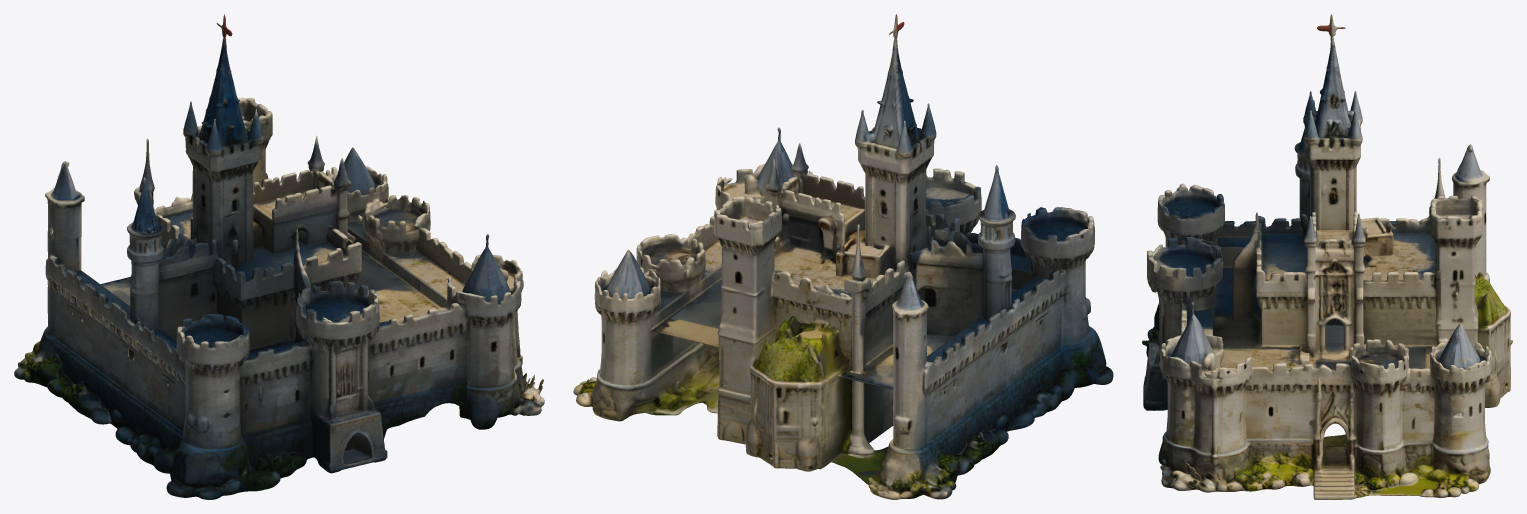
Rendered from tripo_convert_ca9592dc-a405-4ad4-b340-89718ce3b584.fbx.
3 renders of one model, left to right at view 1: azimuth 30°, elevation 25°; view 2: azimuth 150°, elevation 25°; view 3: azimuth 270°, elevation 25°, orthographic. The views are drawn at different scales.
Parts seen in each view (by area): view 1: tripo_node_ca9592dc; view 2: tripo_node_ca9592dc; view 3: tripo_node_ca9592dc.
Boxes of the visible parts, x1,y1,x2,y2 form: tripo_node_ca9592dc: (14,14,544,499); tripo_node_ca9592dc: (573,14,1113,499); tripo_node_ca9592dc: (1142,14,1512,499).
Bounding box in the file's own units: 0.9999 × 0.9637 × 0.8747.
